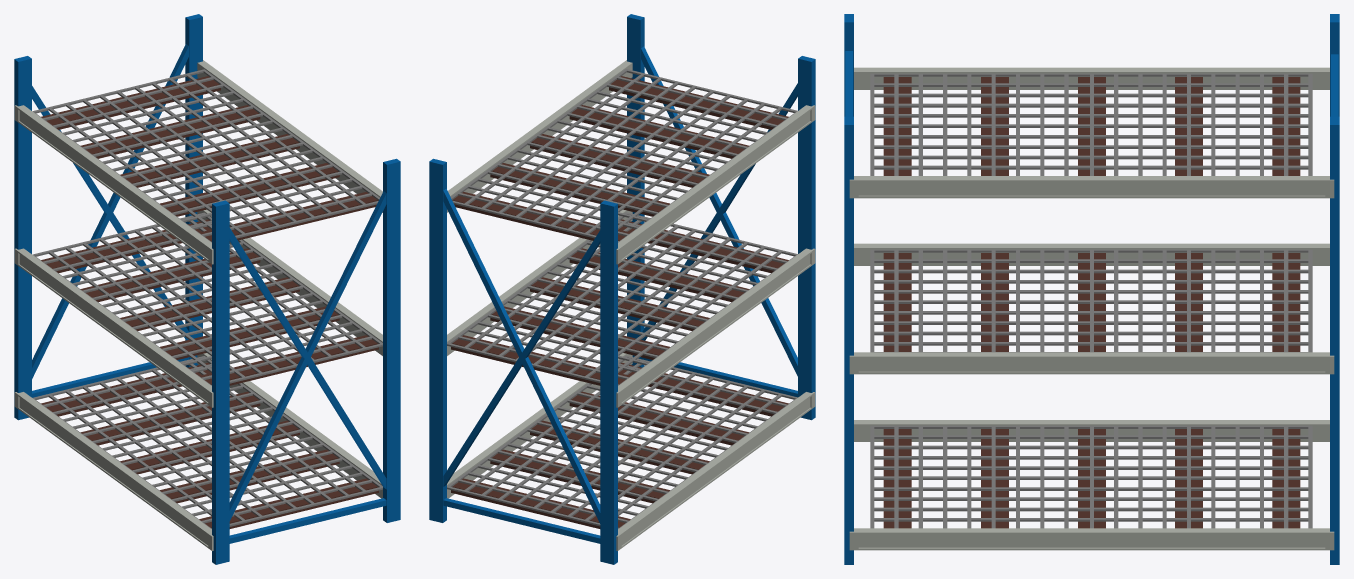
Rendered from box shelf.fbx.
The picture shows the model from 3 angles, left to right: view 1: azimuth 30°, elevation 25°; view 2: azimuth 150°, elevation 25°; view 3: azimuth 270°, elevation 25°; orthographic projection. The views are drawn at different scales.
Parts seen in each view (by area): view 1: Cube.033, Cube.027, Cube.024, Cube.003, Cube.001, Cube.002, Cube.018, Cube.026, Cube.011, Cube.009, Cube.025, Cube.007 (+22 smaller); view 2: Cube.033, Cube.027, Cube.024, Cube.002, Cube, Cube.003, Cube.018, Cube.026, Cube.011, Cube.008, Cube.025, Cube.001 (+22 smaller); view 3: Cube.033, Cube.024, Cube.027, Cube.010, Cube.017, Cube.025, Cube.018, Cube.026, Cube.011, Cube, Cube.001, Cube.015 (+14 smaller).
Boxes of the visible parts, x1=… form: Cube.033: x1=32, y1=69, x2=379, y2=242; Cube.027: x1=32, y1=356, x2=382, y2=528; Cube.024: x1=32, y1=212, x2=382, y2=385; Cube.003: x1=212, y1=200, x2=229, y2=564; Cube.001: x1=383, y1=158, x2=400, y2=522; Cube.002: x1=14, y1=56, x2=31, y2=420; Cube.018: x1=14, y1=248, x2=213, y2=407; Cube.026: x1=14, y1=105, x2=213, y2=264; Cube.011: x1=14, y1=392, x2=213, y2=550; Cube.009: x1=229, y1=191, x2=386, y2=520; Cube.025: x1=197, y1=60, x2=382, y2=212; Cube.007: x1=229, y1=228, x2=386, y2=489; Cube.033: x1=450, y1=69, x2=797, y2=242; Cube.027: x1=447, y1=355, x2=797, y2=528; Cube.024: x1=447, y1=212, x2=797, y2=385; Cube.002: x1=600, y1=200, x2=617, y2=564; Cube: x1=429, y1=158, x2=446, y2=522; Cube.003: x1=798, y1=56, x2=815, y2=420; Cube.018: x1=616, y1=248, x2=815, y2=407; Cube.026: x1=616, y1=105, x2=815, y2=264; Cube.011: x1=616, y1=392, x2=815, y2=550; Cube.008: x1=443, y1=188, x2=600, y2=523; Cube.025: x1=447, y1=60, x2=632, y2=212; Cube.001: x1=627, y1=14, x2=644, y2=367; Cube.033: x1=870, y1=73, x2=1312, y2=175; Cube.024: x1=870, y1=249, x2=1312, y2=352; Cube.027: x1=870, y1=425, x2=1312, y2=528; Cube.010: x1=849, y1=528, x2=1334, y2=550; Cube.017: x1=849, y1=352, x2=1334, y2=374; Cube.025: x1=849, y1=176, x2=1334, y2=198; Cube.018: x1=854, y1=243, x2=1329, y2=265; Cube.026: x1=854, y1=67, x2=1329, y2=89; Cube.011: x1=854, y1=420, x2=1329, y2=441; Cube: x1=1330, y1=116, x2=1339, y2=564; Cube.001: x1=844, y1=116, x2=853, y2=564; Cube.015: x1=883, y1=429, x2=911, y2=528.
Size of the model in its own units: 2040 by 2000 by 1099.
